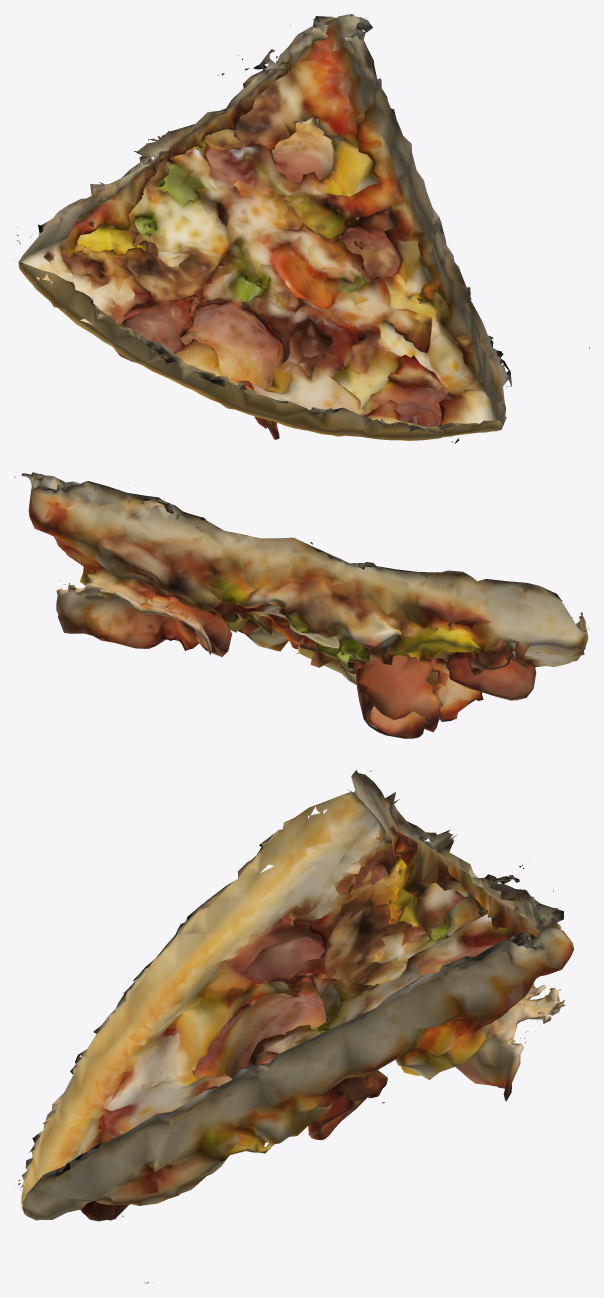
File: pizza_8842.obj
3 renders of one model, top to bottom at view 1: azimuth 30°, elevation 25°; view 2: azimuth 150°, elevation 25°; view 3: azimuth 270°, elevation 25°, orthographic. The views are drawn at different scales.
Size of the model in its own units: 1.61 by 0.8475 by 1.27.
1 material, 1 textured.
